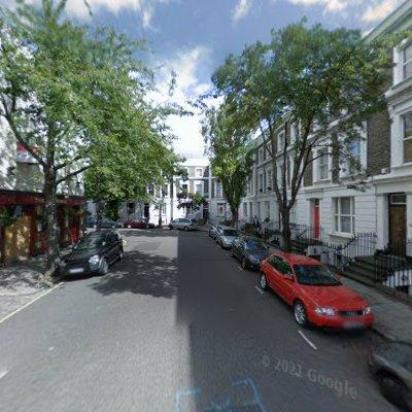stationary-car-onstreet: (258, 251, 376, 333), (59, 227, 127, 281), (366, 336, 412, 412), (229, 233, 270, 270), (86, 214, 122, 230), (216, 224, 238, 248), (167, 217, 199, 232), (122, 216, 156, 230), (208, 222, 220, 238)
